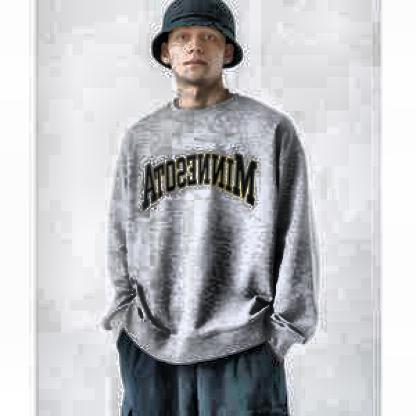sweater: (101, 88, 324, 365)
trousers: (115, 331, 290, 416)
